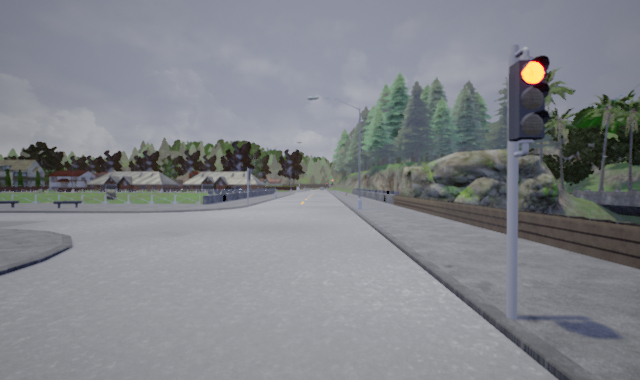traffic_light: (507, 54, 549, 142)
